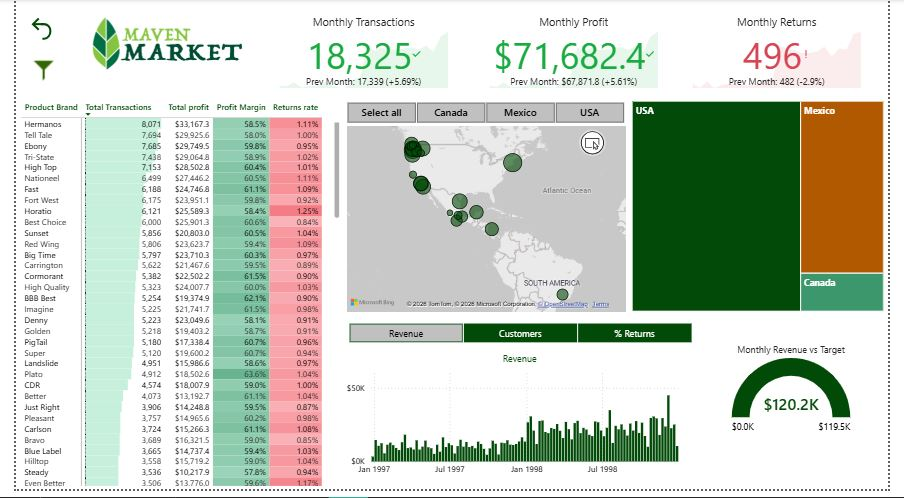

The page's visual inventory and layout, read from the dashboard file:
{"tool":"powerbi","page":{"name":"Exec Dashbooard","canvas":[1280,720],"ordinal":0},"visuals":[{"type":"image","box":[100.8,0,240.5,129.6],"z":0},{"type":"kpi","title":"Monthly Transactions","fields":{"Indicator":["Measure Table.Total Transactions"],"TrendLine":["Calendar_Lookup.start_of_month"],"Goal":["Measure Table.Last Month Transaction"]},"box":[381.6,22.1,257.8,113.8],"z":1000},{"type":"kpi","title":"Monthly Profit","fields":{"TrendLine":["Calendar_Lookup.start_of_month"],"Indicator":["Measure Table.Total profit"],"Goal":["Measure Table.Last Month Profit"]},"box":[691.2,22.1,257.8,113.8],"z":2000},{"type":"kpi","title":"Monthly Returns","fields":{"TrendLine":["Calendar_Lookup.start_of_month"],"Indicator":["Measure Table.Total Returns"],"Goal":["Measure Table.Last Month Returns"]},"box":[989.3,22.1,257.8,113.8],"z":3000},{"type":"pivotTable","fields":{"Rows":["Product_Lookup.product_brand"],"Values":["Measure Table.Total Transactions","Measure Table.Total profit","Measure Table.Profit Margin","Measure Table.Returns rate"]},"box":[2.9,145.4,478.1,574.6],"z":4000},{"type":"map","fields":{"Category":["Store_Lookup.store_city"],"Size":["Measure Table.Total Transactions"]},"box":[481.5,181.5,419.8,282.7],"z":5000},{"type":"slicer","fields":{"Values":["Store_Lookup.store_country"]},"box":[461.7,145.7,455.6,35.8],"z":6000},{"type":"treemap","fields":{"Group":["Store_Lookup.store_country","Store_Lookup.store_state","Store_Lookup.store_city"],"Values":["Measure Table.Total Transactions"]},"box":[901.4,145.4,378.7,318.2],"z":7000},{"type":"gauge","title":"Monthly Revenue vs Target","fields":{"Y":["Measure Table.Total revenue"],"MaxValue":["Measure Table.Revenue Target"]},"box":[1014.3,471.4,246,141.3],"z":8000},{"type":"columnChart","fields":{"Y":["Measure Table.Total revenue"],"Category":["Calendar_Lookup.start_of_week"]},"box":[480.3,518.2,519.7,190.9],"z":9000},{"type":"slicer","fields":{"Values":["Weekly Metric Selection.Weekly Metric Selection"]},"box":[463.7,470.9,551.5,34.6],"z":10000},{"type":"actionButton","box":[15.8,21.6,44.6,43.2],"z":11000},{"type":"actionButton","box":[15.8,80.6,57.6,49],"z":14000}]}

Visuals, with their boxes in screenshot pixels (x1, y1, x2, y2), scaled from the page's 1280x720 canvas onto the 904x498 screenshot:
image: 71 0 241 90
"Monthly Transactions" kpi: 270 15 452 94
"Monthly Profit" kpi: 488 15 670 94
"Monthly Returns" kpi: 699 15 881 94
pivotTable - Product_Lookup.product_brand x Measure Table.Total Transactions: 2 101 340 497
map - Store_Lookup.store_city x Measure Table.Total Transactions: 340 126 637 321
slicer - Store_Lookup.store_country: 326 101 648 126
treemap - Store_Lookup.store_country x Store_Lookup.store_state: 637 101 903 321
"Monthly Revenue vs Target" gauge: 716 326 890 424
columnChart - Measure Table.Total revenue x Calendar_Lookup.start_of_week: 339 358 706 490
slicer - Weekly Metric Selection.Weekly Metric Selection: 327 326 717 350
actionButton: 11 15 43 45
actionButton: 11 56 52 90
